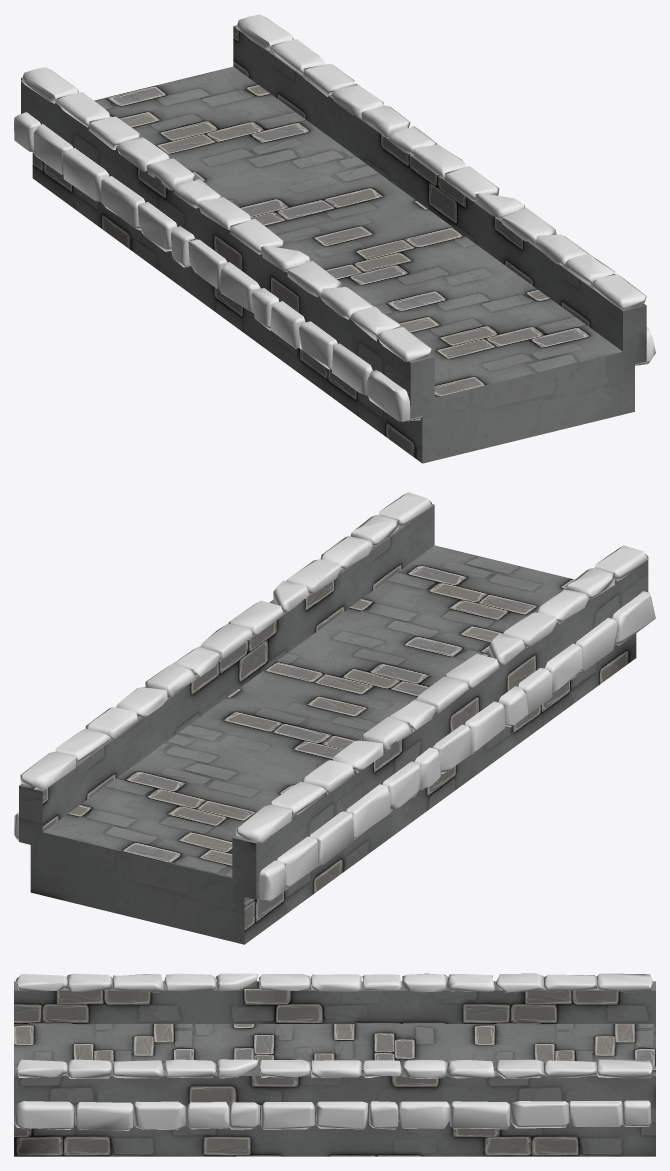
Rendered from SM_Bridge_Half.fbx.
The picture shows the model from 3 angles, top to bottom: view 1: azimuth 30°, elevation 25°; view 2: azimuth 150°, elevation 25°; view 3: azimuth 270°, elevation 25°; orthographic projection. The views are drawn at different scales.
Visible parts, largest first — view 1: Bridge_Half_LOD0; view 2: Bridge_Half_LOD0; view 3: Bridge_Half_LOD0.
Boxes of the visible parts, box(x1,y1,x2,y2) form: Bridge_Half_LOD0: box(14, 14, 655, 463); Bridge_Half_LOD0: box(14, 492, 655, 944); Bridge_Half_LOD0: box(14, 973, 655, 1156).
Size of what is drawn, in the model's own units: 5.48 by 2.28 by 14.11.
